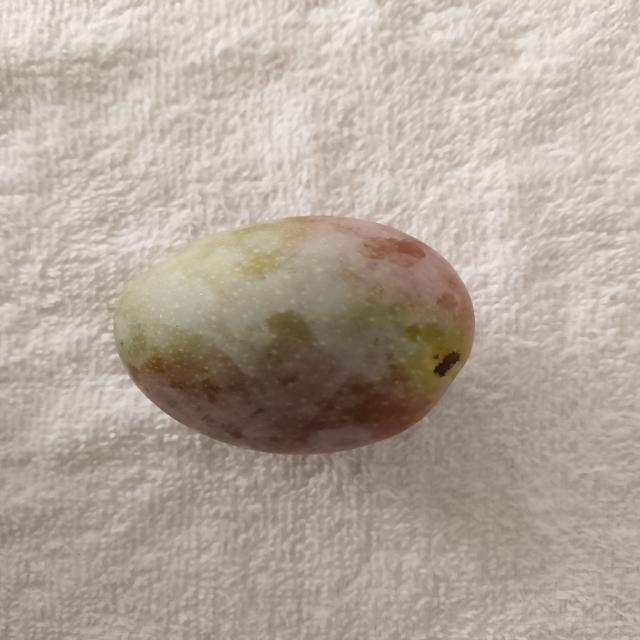mango: (107, 210, 480, 460)
